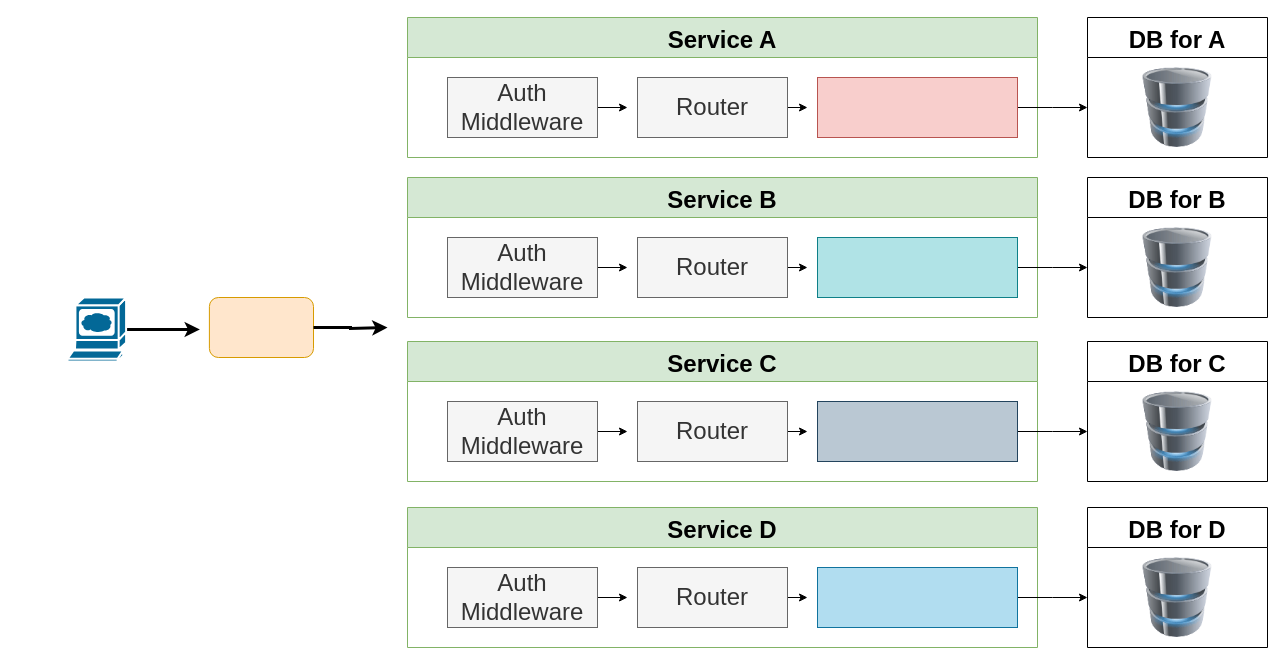
Image size: 1285x665. Some labels were removed from this diagram. Each missing label, with the centre of its shape:
"Feature A" goes at pixel 917 107.
"Feature B" goes at pixel 917 267.
"Feature C" goes at pixel 917 431.
"Feature D" goes at pixel 917 597.
"Request" goes at pixel 261 327.
